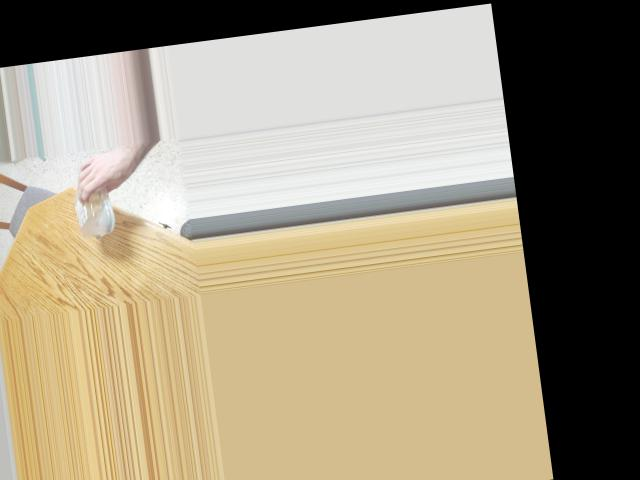cheese: (59, 177, 140, 240)
